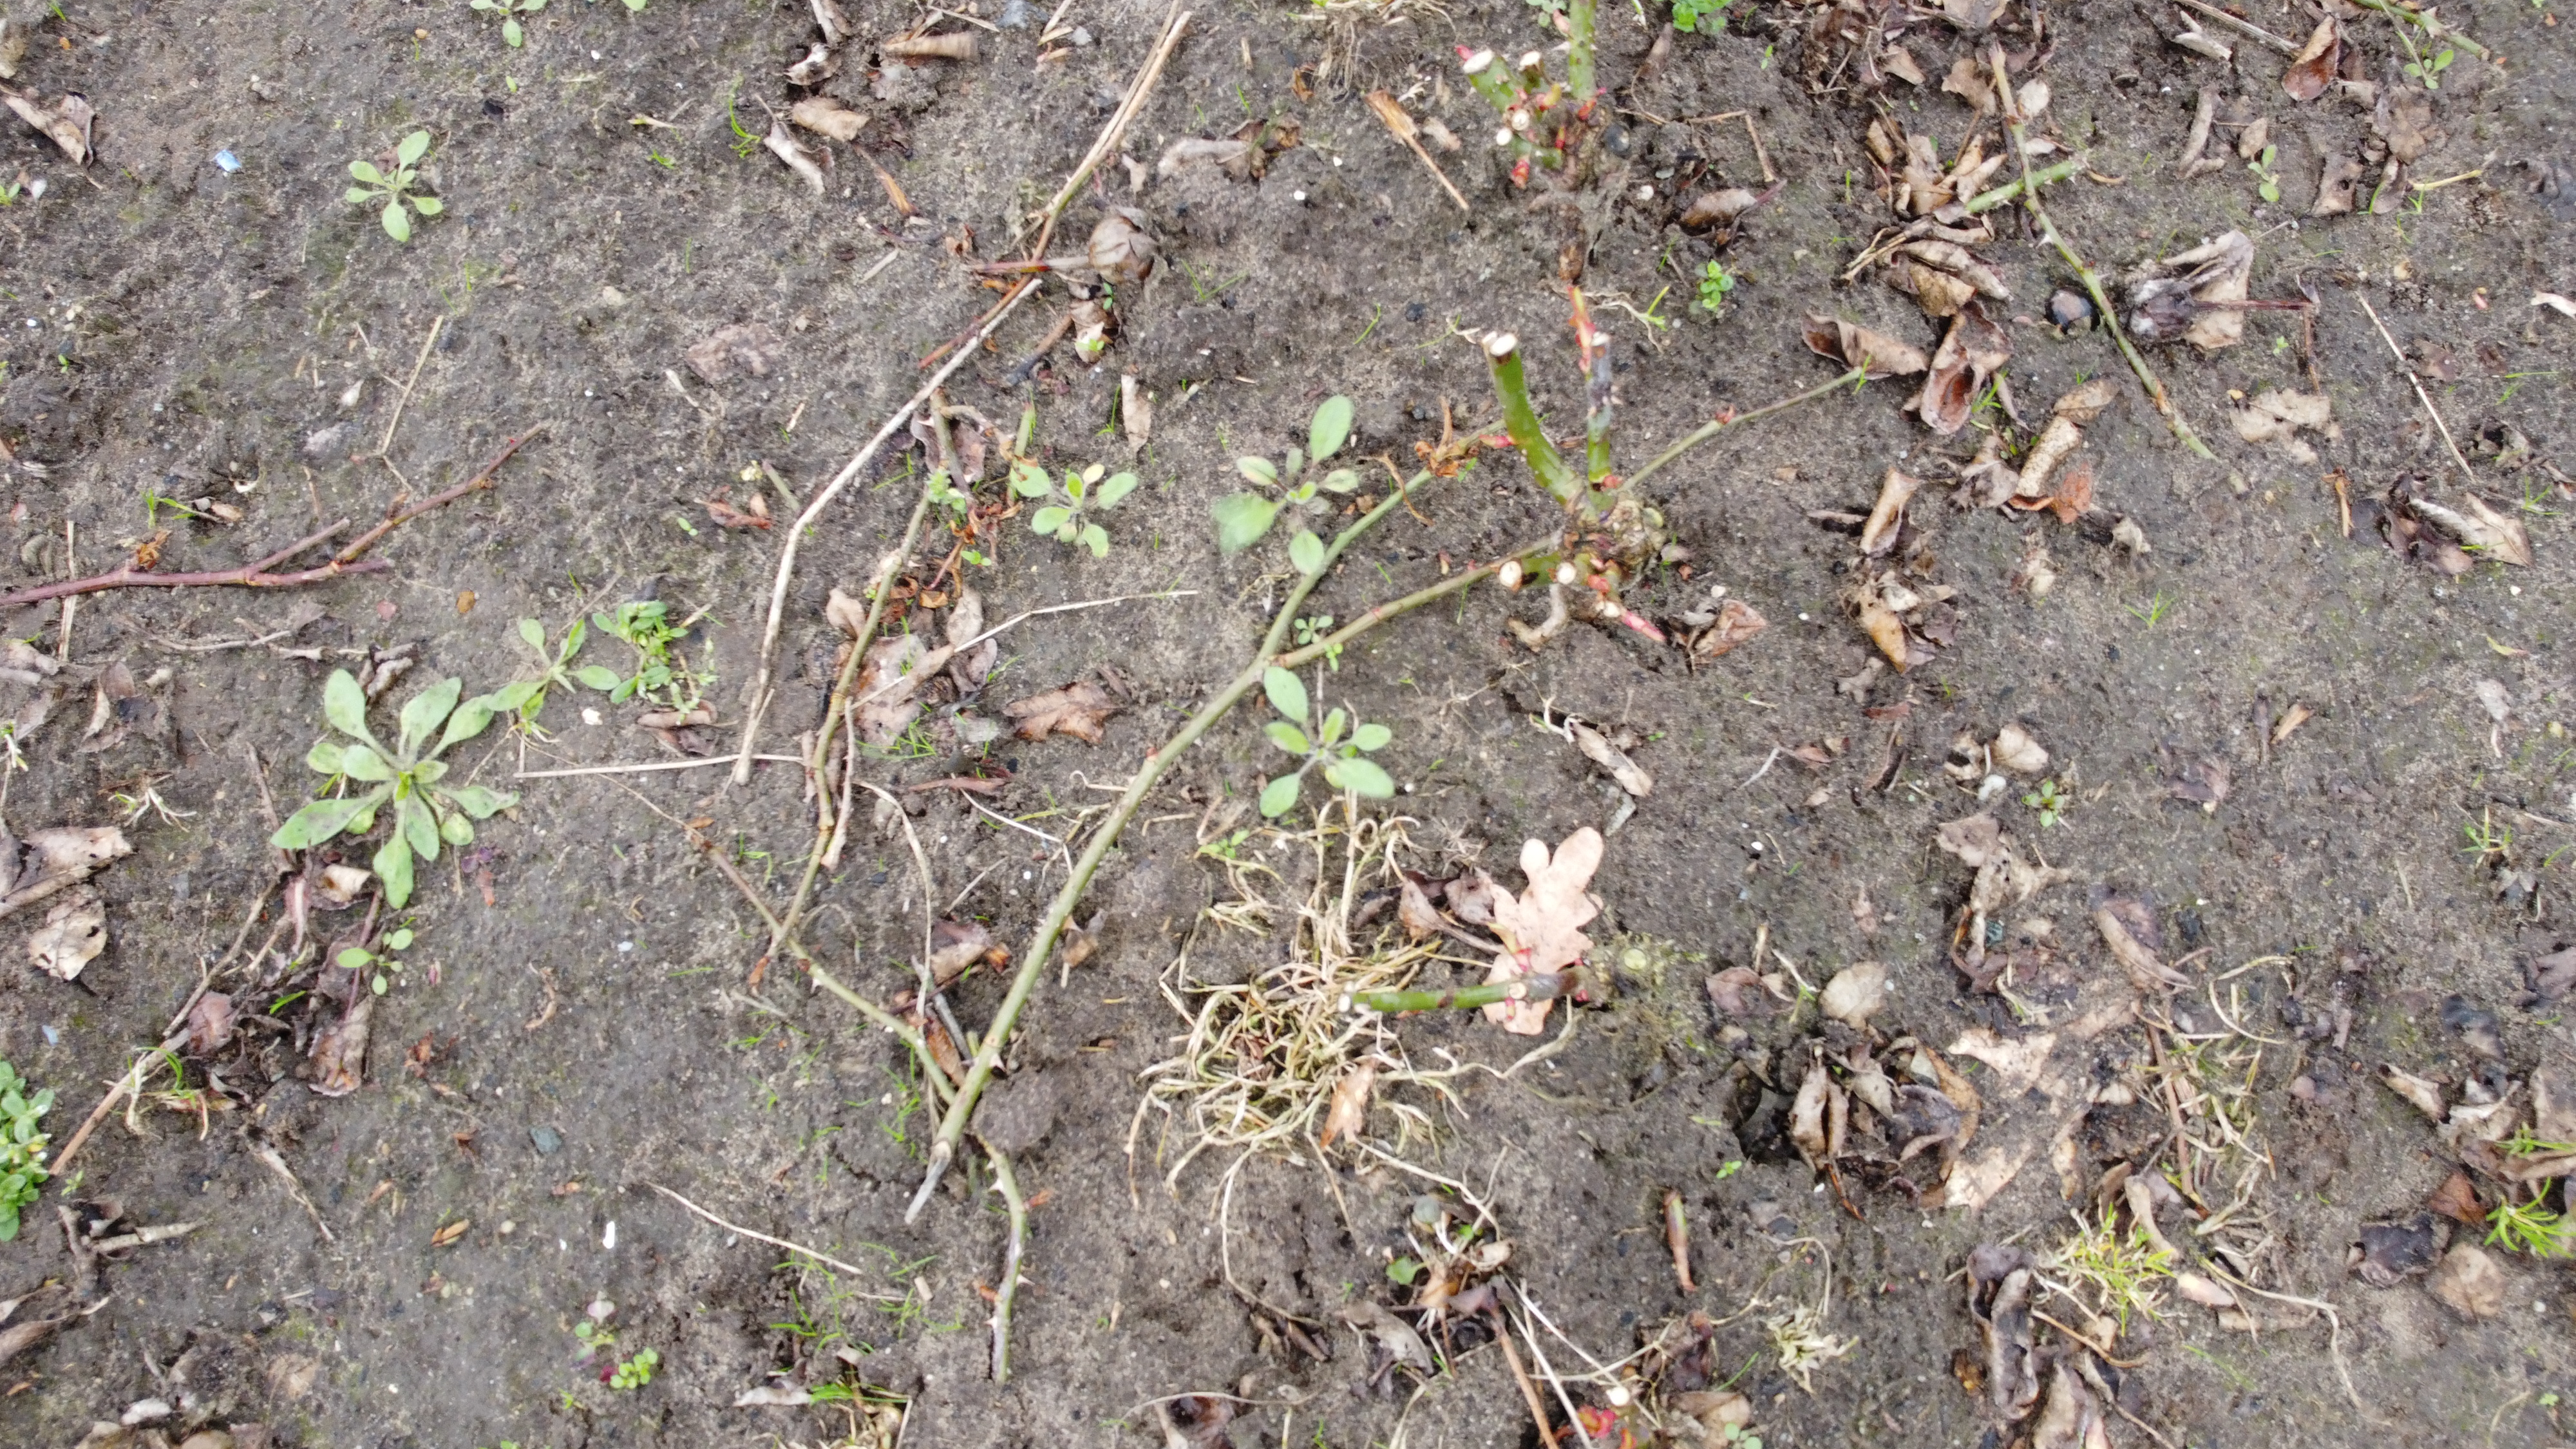Rose: (1451, 311, 1706, 648), (1430, 21, 1626, 198), (1323, 939, 1684, 1017)
Weed: (1187, 828, 1456, 1154), (267, 660, 485, 901), (1189, 377, 1391, 586), (1223, 648, 1403, 816), (315, 124, 485, 249), (1000, 449, 1150, 566), (2038, 1200, 2166, 1311), (490, 621, 619, 717), (0, 1056, 51, 1251), (612, 594, 699, 706), (322, 920, 437, 1003), (568, 1316, 678, 1396), (1380, 1201, 1488, 1281), (2480, 1200, 2576, 1260), (2019, 770, 2075, 830), (2394, 44, 2454, 97), (860, 720, 934, 759), (471, 0, 547, 37), (1691, 255, 1741, 308), (922, 469, 968, 517), (2505, 1123, 2557, 1161), (1670, 0, 1741, 27), (2252, 142, 2282, 203)
